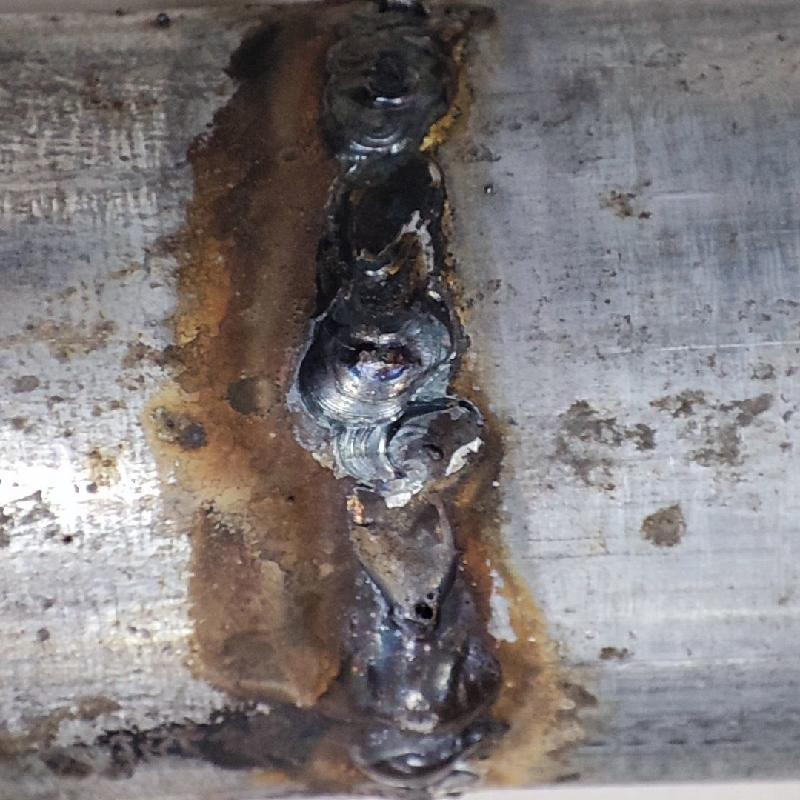Not_fully_soldered: (316, 421, 463, 640)
Surface_pores: (388, 584, 450, 628)
Weld: (330, 638, 498, 782)
wrong_size: (300, 2, 462, 423)
